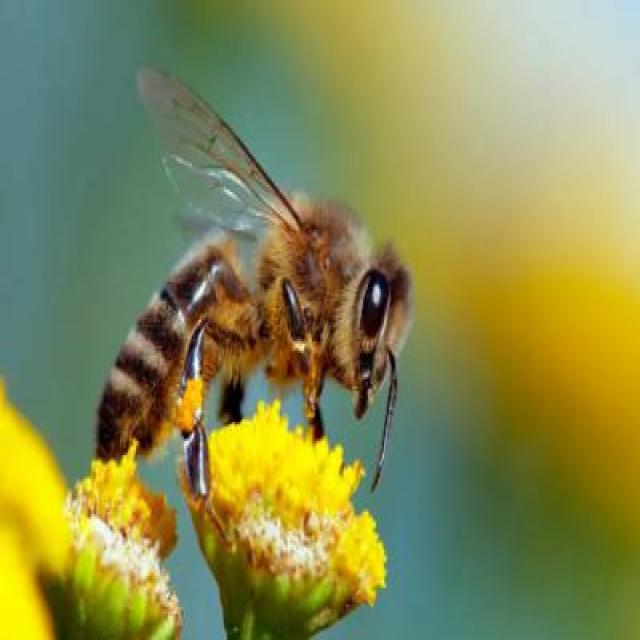antennae: (367, 339, 399, 494)
body: (94, 199, 411, 470)
insect: (89, 62, 418, 516)
legs: (181, 322, 253, 494), (278, 275, 333, 441), (218, 355, 253, 434)
mouthpart: (348, 366, 376, 425)
wings: (141, 67, 319, 237), (164, 148, 280, 237)
